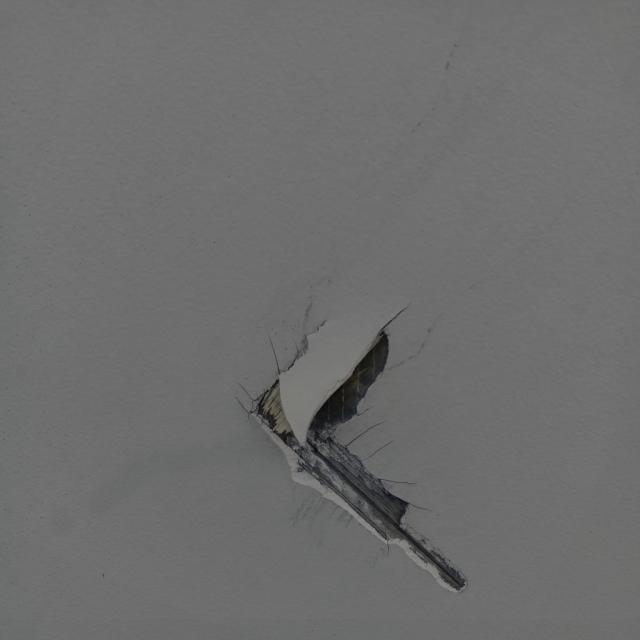crack: (248, 309, 474, 583)
